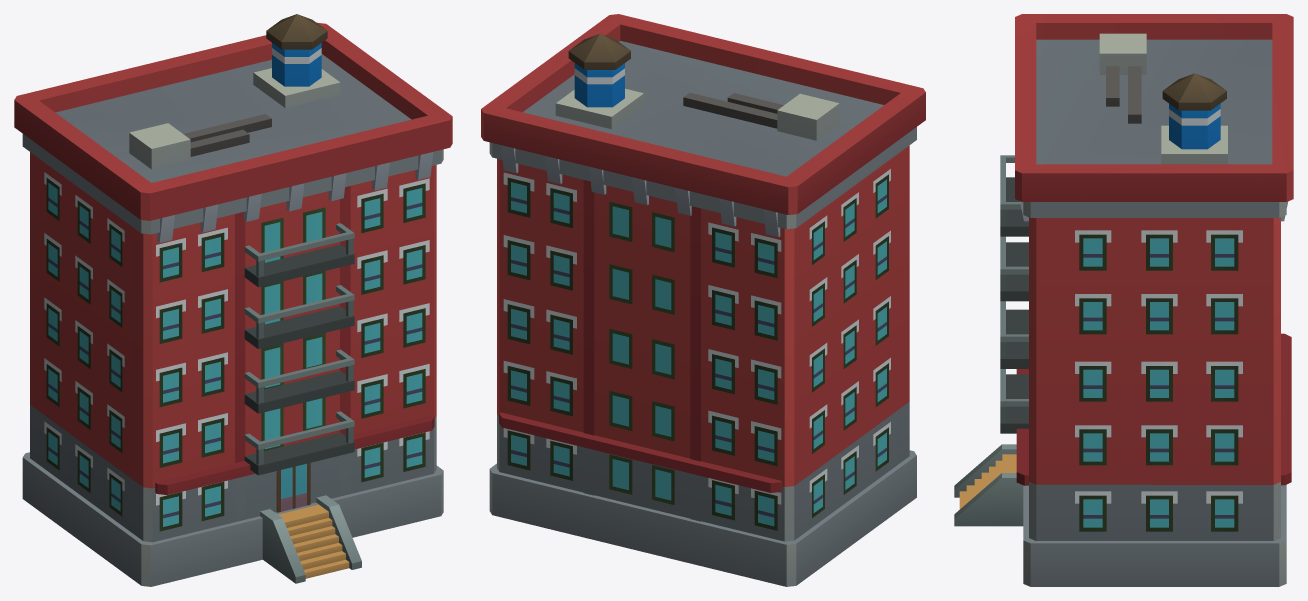
Rendered from Building_cartoon_39.fbx.
The picture shows the model from 3 angles, left to right: view 1: azimuth 30°, elevation 25°; view 2: azimuth 150°, elevation 25°; view 3: azimuth 270°, elevation 25°; orthographic projection. The views are drawn at different scales.
Visible parts, largest first — view 1: Building_cartoon_39; view 2: Building_cartoon_39; view 3: Building_cartoon_39.
Boxes of the visible parts, box(x1,y1,x2,y2) form: Building_cartoon_39: box(14, 14, 452, 586); Building_cartoon_39: box(481, 14, 925, 586); Building_cartoon_39: box(954, 14, 1293, 586).
Bounding box in the file's own units: 1716 × 2404 × 1546.
